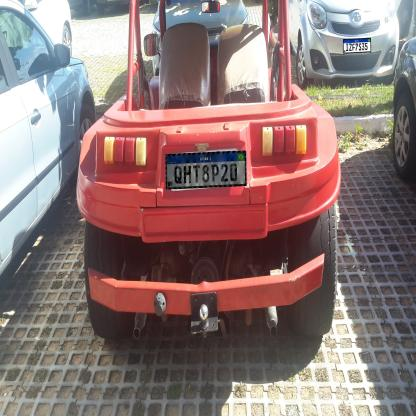PlacaM: (166, 151, 247, 189), (343, 38, 371, 53)
